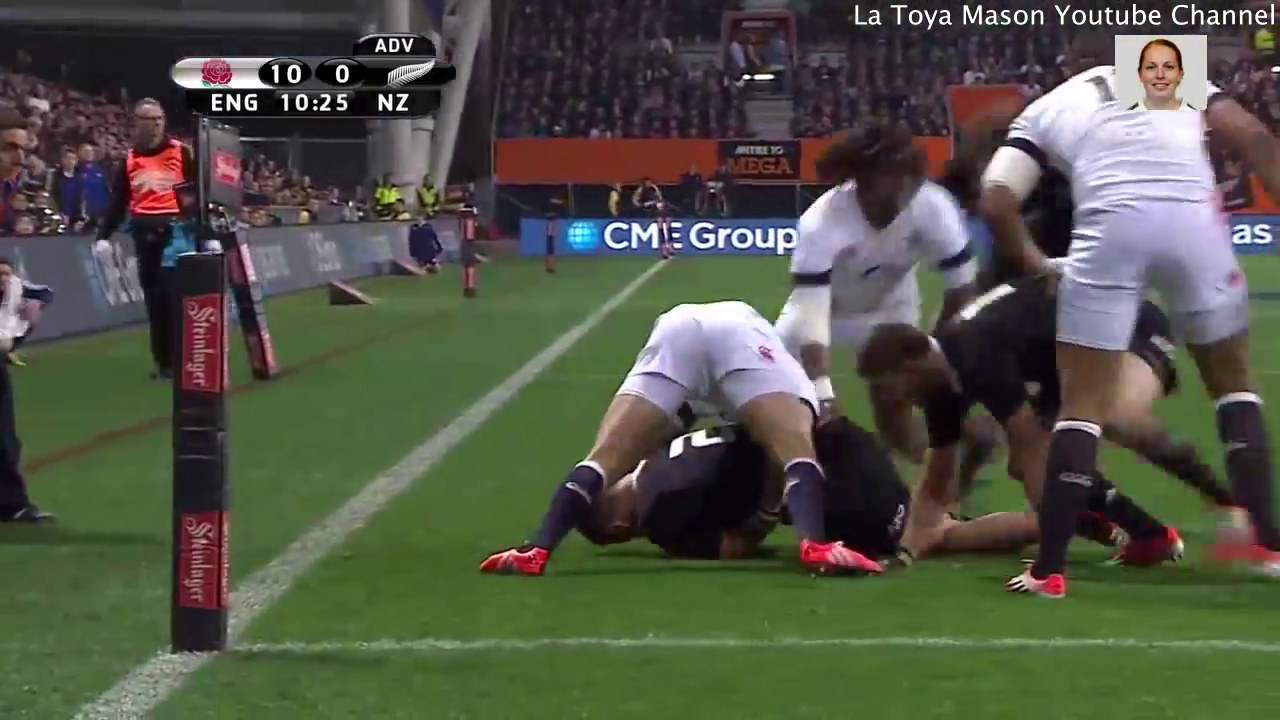player: (999, 41, 1263, 600), (476, 293, 900, 589), (758, 115, 970, 322)
ruck: (506, 234, 1191, 562)
